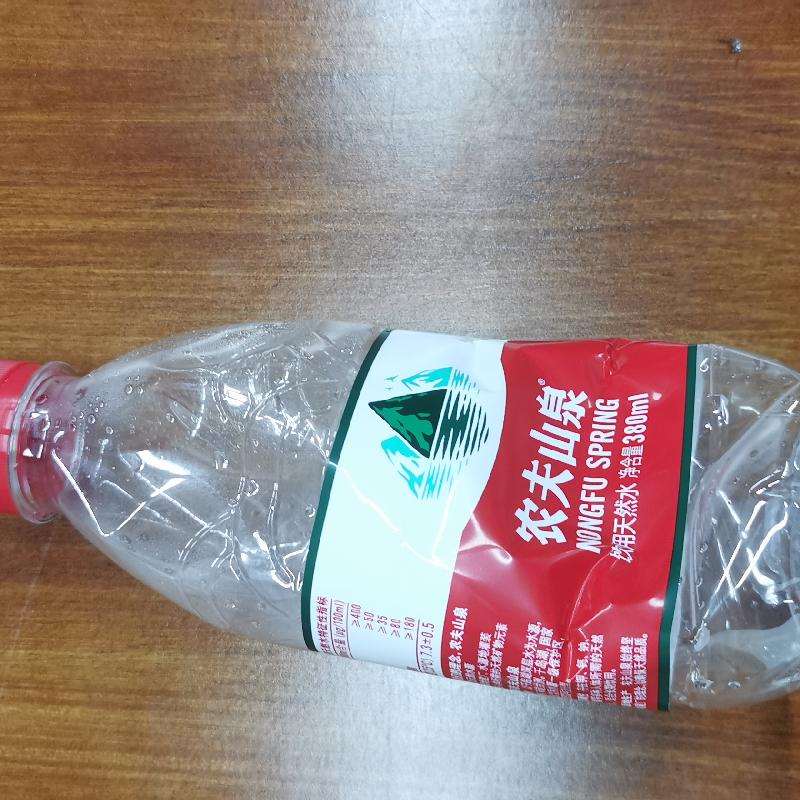bottles: (0, 324, 799, 715)
